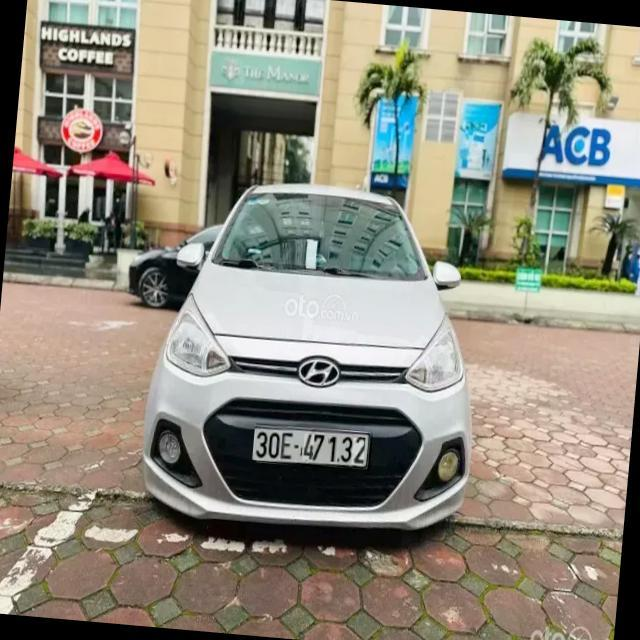car: (147, 176, 473, 543)
plate: (247, 422, 375, 473)
